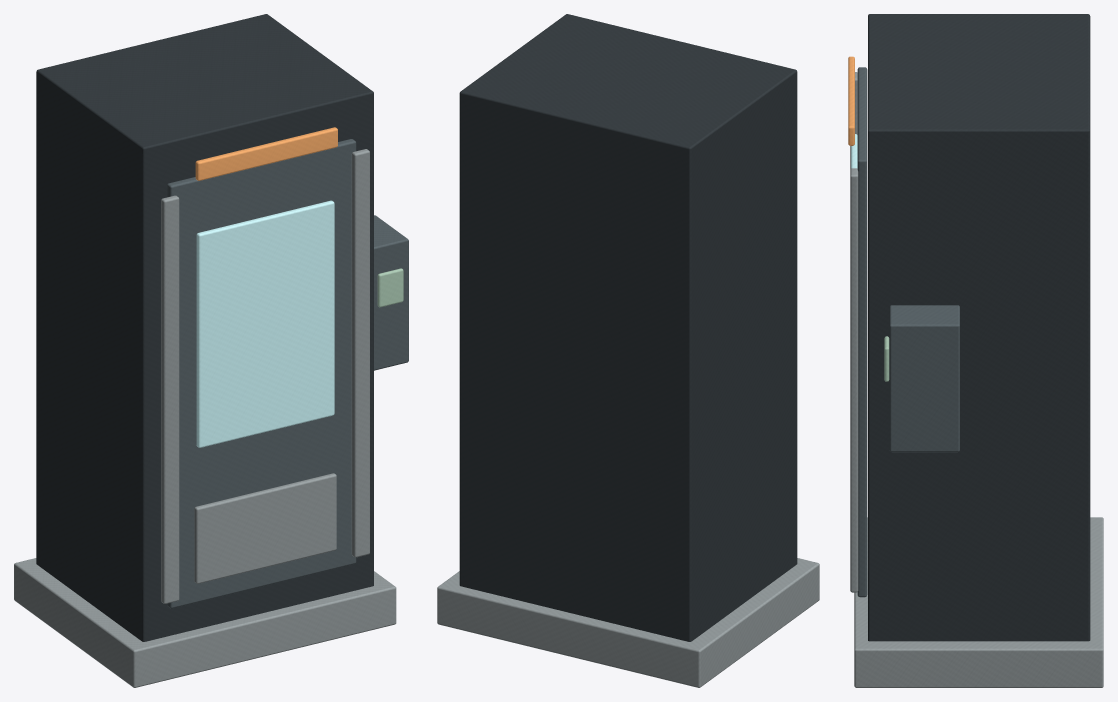
Rendered from CryoPod.glb.
3 views of the same model, side by side, from view 1: azimuth 30°, elevation 25°; view 2: azimuth 150°, elevation 25°; view 3: azimuth 270°, elevation 25° (orthographic). The views are drawn at different scales.
Visible parts, largest first — view 1: CryoPod_Mesh; view 2: CryoPod_Mesh; view 3: CryoPod_Mesh.
Part boxes in pixels (bbox=[...]): CryoPod_Mesh: bbox=[14, 14, 408, 687]; CryoPod_Mesh: bbox=[437, 14, 819, 687]; CryoPod_Mesh: bbox=[848, 14, 1103, 687].
Bounding box in the file's own units: 1.29 × 2.24 × 0.9425.
6 materials, 6 textured.
